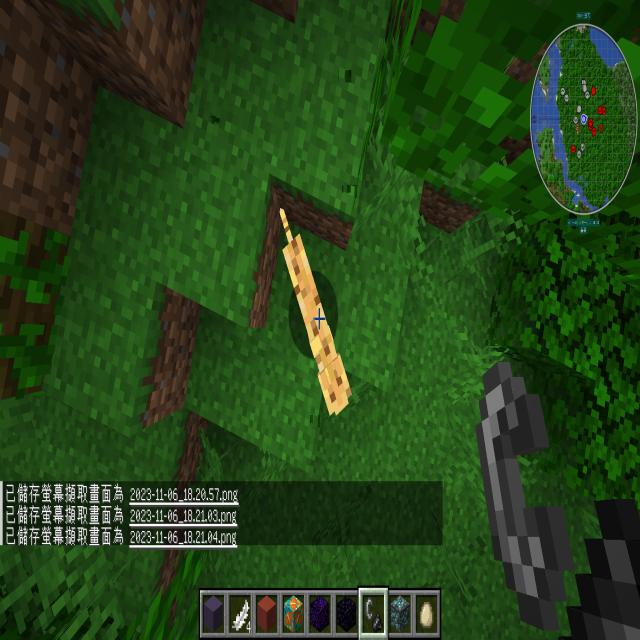Ocelot: (265, 198, 359, 432)
